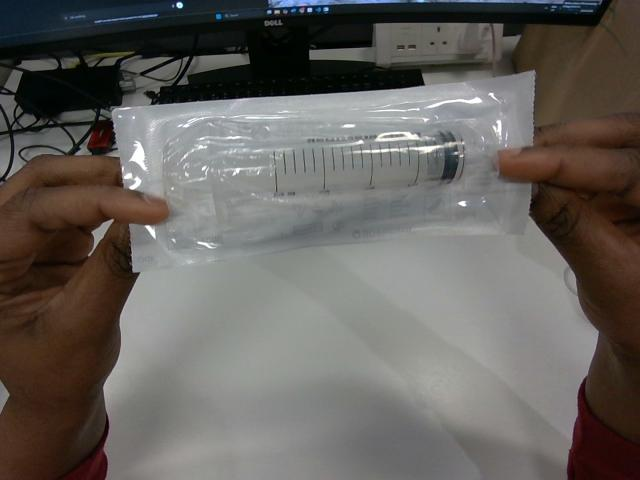syringe: (113, 73, 534, 270)
